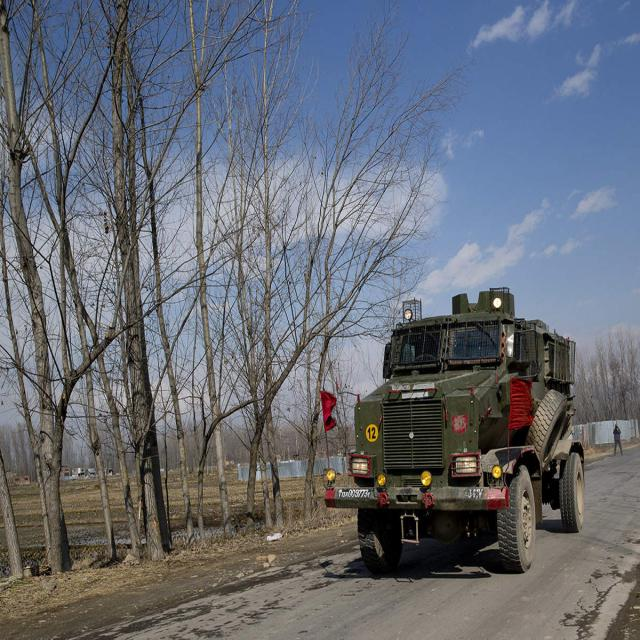truck: (325, 288, 585, 573)
